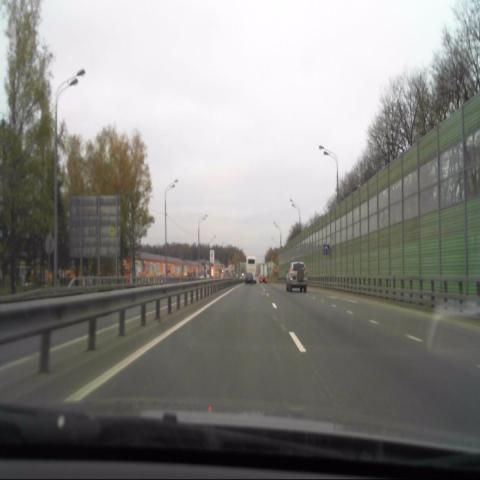5_15_5: (323, 245, 329, 256)
